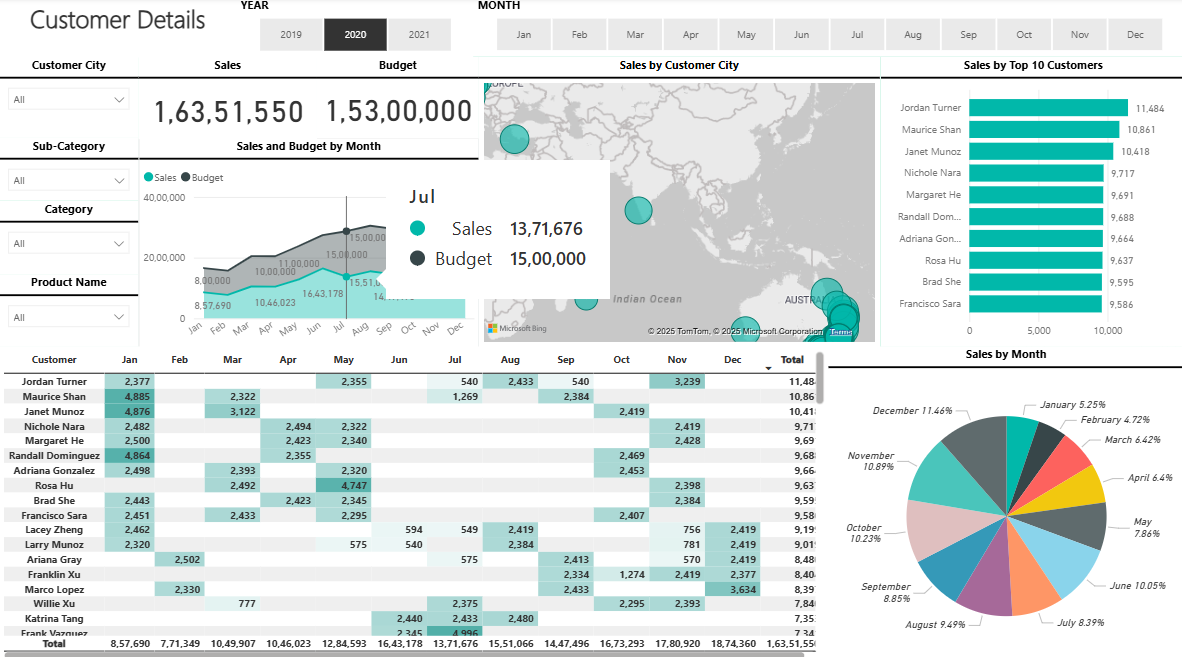

The dashboard page shown, as its layout file describes it:
{"tool":"powerbi","page":{"name":"Customer Details","canvas":[1280,720],"ordinal":1},"visuals":[{"type":"textbox","box":[0,0,256.2,65.2],"z":0},{"type":"slicer","title":"YEAR","fields":{"Values":["DIM_Calendar.Year"]},"box":[256.2,0,255.7,65.2],"z":1000},{"type":"slicer","title":"MONTH","fields":{"Values":["DIM_Calendar.MonthShort"]},"box":[512,0,768,64],"z":2000},{"type":"slicer","title":"Customer City","fields":{"Values":["DIM_Customers.Customer City"]},"box":[0,65,150.8,87.5],"z":3000},{"type":"slicer","title":"Category","fields":{"Values":["DIM_Products.Product Category"]},"box":[0,220.2,150.6,79.3],"z":4000},{"type":"slicer","title":"Product Name","fields":{"Values":["DIM_Products.Product Name"]},"box":[0,299.6,150.6,77.7],"z":5000},{"type":"slicer","title":"Sub-Category","fields":{"Values":["DIM_Products.Sub Category"]},"box":[0,151.8,150.9,67.3],"z":6000},{"type":"stackedAreaChart","fields":{"Category":["DIM_Calendar.MonthShort"],"Y":["Analysis Metrics.Sales","Analysis Metrics.Budget"]},"box":[150.6,152.2,367.6,226.7],"z":7000},{"type":"card","title":"Sales","fields":{"Values":["Analysis Metrics.Sales"]},"box":[151.2,65,192.5,88.8],"z":8000},{"type":"map","fields":{"Category":["DIM_Customers.Customer City"],"Size":["Analysis Metrics.Sales"]},"box":[518.2,64.8,432.3,312.5],"z":9000},{"type":"card","title":"Budget","fields":{"Values":["Analysis Metrics.Budget"]},"box":[343.3,65.3,174.7,88],"z":10000},{"type":"pivotTable","fields":{"Rows":["DIM_Customers.Full Name"],"Columns":["DIM_Calendar.MonthShort"],"Values":["Analysis Metrics.Sales"]},"box":[0,377.3,895.4,343.3],"z":11000},{"type":"barChart","title":"Sales by Top 10 Customers","fields":{"Category":["DIM_Customers.Full Name"],"Y":["Analysis Metrics.Sales"]},"box":[952.1,64.8,328.7,312.5],"z":12000},{"type":"pieChart","fields":{"Y":["Analysis Metrics.Sales"],"Category":["DIM_Calendar.Month"]},"box":[895.4,377.3,383.8,343.3],"z":13000}]}

Visuals, with their boxes in screenshot pixels (x1, y1, x2, y2), scaled from the page's 1280x720 canvas onto the 1182x657 screenshot:
textbox: <bbox>0, 0, 237, 59</bbox>
"YEAR" slicer: <bbox>237, 0, 473, 59</bbox>
"MONTH" slicer: <bbox>473, 0, 1181, 58</bbox>
"Customer City" slicer: <bbox>0, 59, 139, 139</bbox>
"Category" slicer: <bbox>0, 201, 139, 273</bbox>
"Product Name" slicer: <bbox>0, 273, 139, 344</bbox>
"Sub-Category" slicer: <bbox>0, 139, 139, 200</bbox>
stackedAreaChart - DIM_Calendar.MonthShort x Analysis Metrics.Sales: <bbox>139, 139, 479, 346</bbox>
"Sales" card: <bbox>140, 59, 317, 140</bbox>
map - DIM_Customers.Customer City x Analysis Metrics.Sales: <bbox>479, 59, 878, 344</bbox>
"Budget" card: <bbox>317, 60, 478, 140</bbox>
pivotTable - DIM_Customers.Full Name x DIM_Calendar.MonthShort: <bbox>0, 344, 827, 656</bbox>
"Sales by Top 10 Customers" barChart: <bbox>879, 59, 1181, 344</bbox>
pieChart - Analysis Metrics.Sales x DIM_Calendar.Month: <bbox>827, 344, 1181, 656</bbox>
